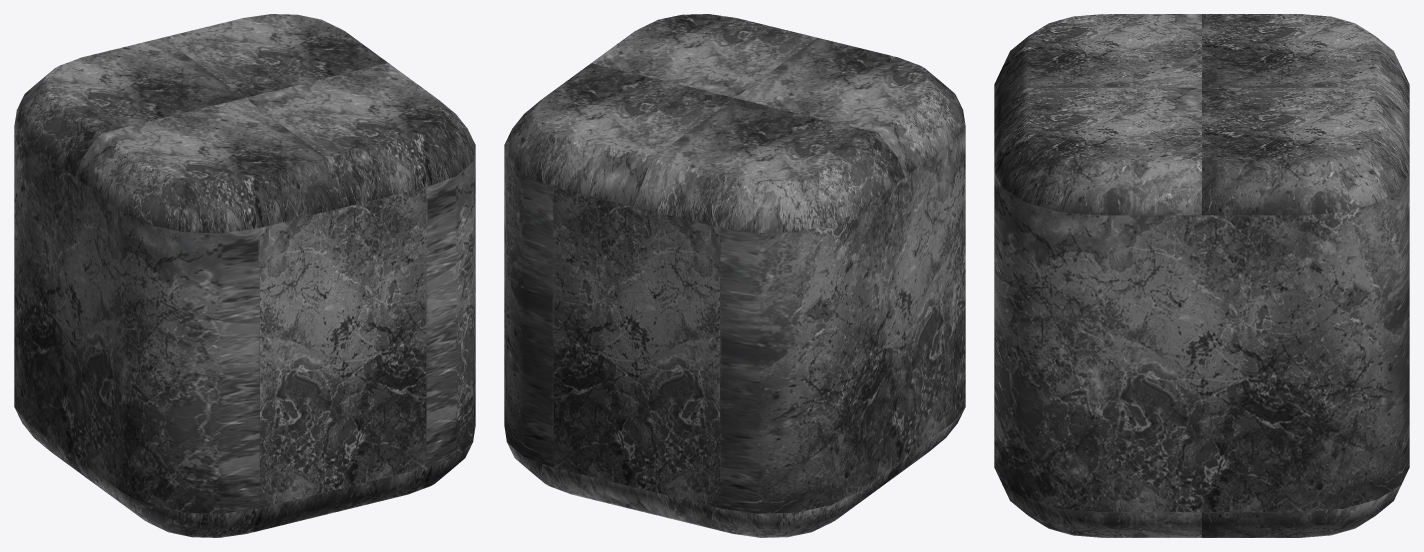
Rendered from Block_1x1.glb.
The picture shows the model from 3 angles, left to right: view 1: azimuth 30°, elevation 25°; view 2: azimuth 150°, elevation 25°; view 3: azimuth 270°, elevation 25°; orthographic projection. The views are drawn at different scales.
Parts seen in each view (by area): view 1: Quad_S0_TR, Quad_S0_TL, Quad_S0_BR, Quad_S0_BL; view 2: Quad_S0_BR, Quad_S0_BL, Quad_S0_TR, Quad_S0_TL; view 3: Quad_S0_TL, Quad_S0_BL, Quad_S0_TR, Quad_S0_BR.
Boxes of the visible parts, bbox=[...] form: Quad_S0_TR: bbox=[75, 98, 342, 537]; Quad_S0_TL: bbox=[245, 63, 475, 513]; Quad_S0_BR: bbox=[14, 37, 244, 484]; Quad_S0_BL: bbox=[163, 14, 390, 97]; Quad_S0_BR: bbox=[637, 98, 904, 537]; Quad_S0_BL: bbox=[504, 63, 734, 513]; Quad_S0_TR: bbox=[735, 37, 965, 484]; Quad_S0_TL: bbox=[589, 14, 816, 97]; Quad_S0_TL: bbox=[994, 87, 1201, 537]; Quad_S0_BL: bbox=[1202, 87, 1409, 537]; Quad_S0_TR: bbox=[994, 14, 1201, 126]; Quad_S0_BR: bbox=[1202, 14, 1409, 126].
Bounding box in the file's own units: 3 × 3 × 3.
Materials: 1 (1 with a texture image).
